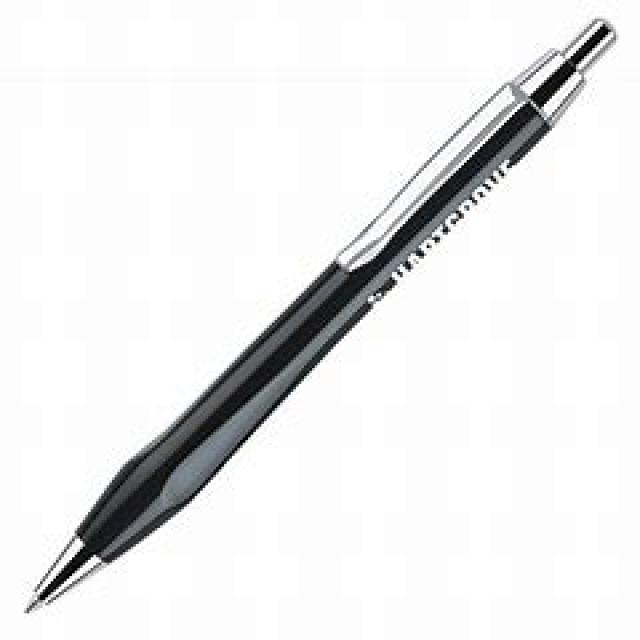pen: (29, 16, 619, 614)
